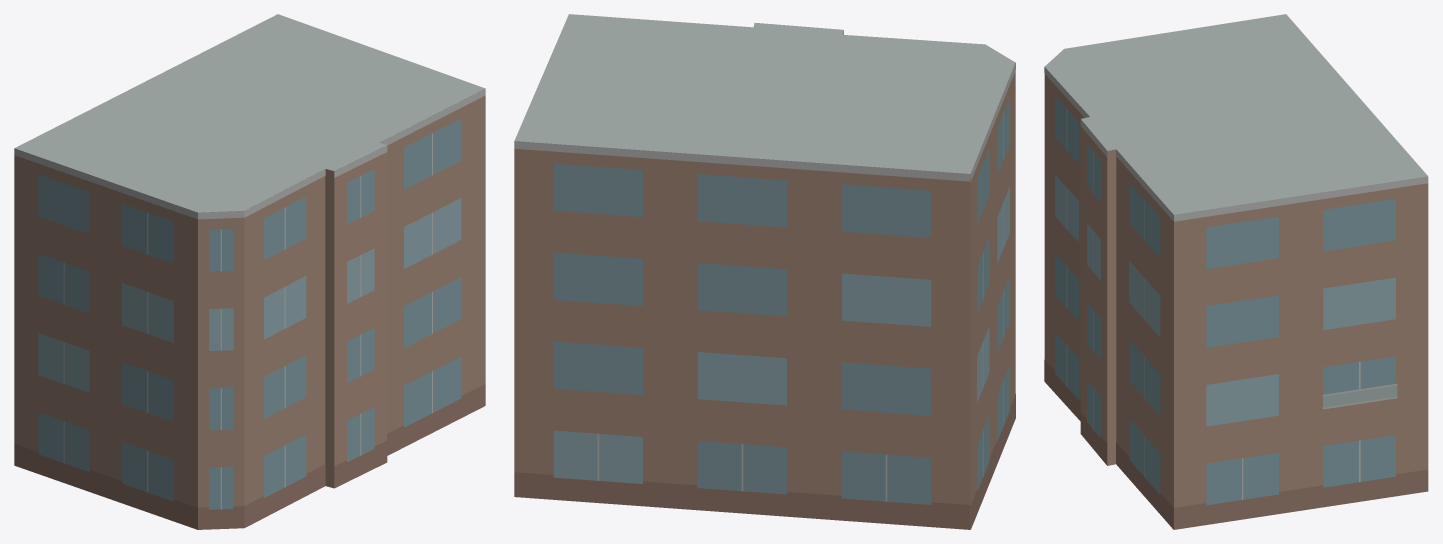
Rendered from survey-upis-32761788.glb.
The picture shows the model from 3 angles, left to right: view 1: azimuth 30°, elevation 25°; view 2: azimuth 150°, elevation 25°; view 3: azimuth 270°, elevation 25°; orthographic projection. The views are drawn at different scales.
Parts seen in each view (by area): view 1: survey-upis-32761788.tmp; view 2: survey-upis-32761788.tmp; view 3: survey-upis-32761788.tmp.
Part boxes in pixels (x1=…): survey-upis-32761788.tmp: x1=14, y1=14, x2=485, y2=529; survey-upis-32761788.tmp: x1=514, y1=14, x2=1015, y2=529; survey-upis-32761788.tmp: x1=1044, y1=14, x2=1428, y2=529.
Bounding box in the file's own units: 15.47 × 11.3 × 12.49.
